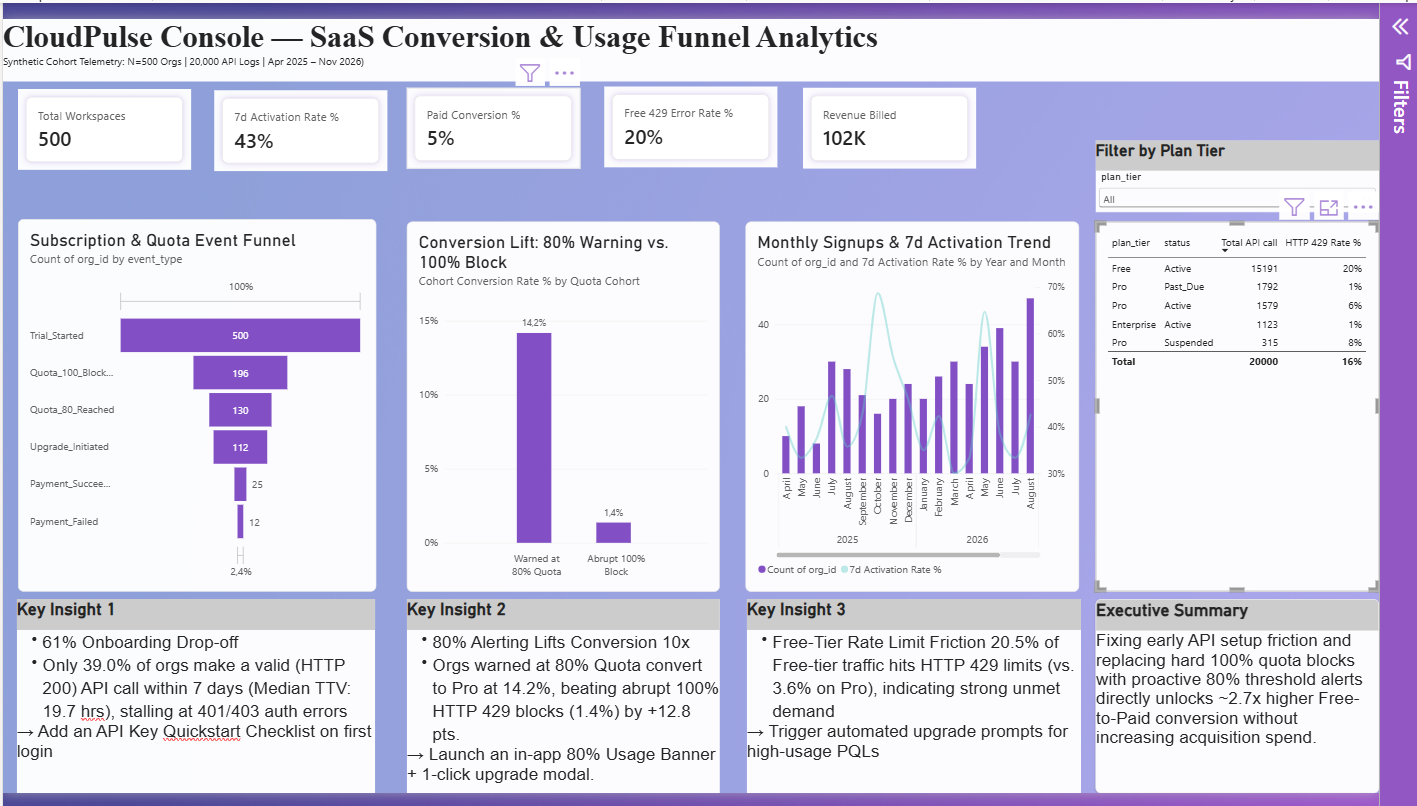

What the dashboard file says about the page in this screenshot:
{"tool":"powerbi","page":{"name":"Page 2","canvas":[1920,1080],"ordinal":0},"visuals":[{"type":"textbox","box":[0,0,1920,87.4],"z":0},{"type":"cardVisual","fields":{"Data":["CountNonNull(organizations.org_id)"]},"box":[20.3,98.2,241.7,113.1],"z":1000},{"type":"cardVisual","fields":{"Data":["organizations.7d Activation Rate %"]},"box":[294.7,99.9,241.7,113.1],"z":2000},{"type":"cardVisual","fields":{"Data":["organizations.Paid Conversion %"]},"box":[564,96.5,241.7,113.1],"z":3000},{"type":"cardVisual","fields":{"Data":["organizations.Free 429 Error Rate %"]},"box":[838.4,94.8,241.7,113.1],"z":4000},{"type":"cardVisual","fields":{"Data":["organizations.Total MRR"]},"box":[1116.2,96.5,241.7,113.1],"z":5000},{"type":"funnel","title":"Subscription & Quota Event Funnel","fields":{"Category":["subscription_events.event_type"],"Y":["Count(subscription_events.org_id)"]},"box":[20.3,279.5,499.6,520],"z":6000},{"type":"clusteredColumnChart","title":"Conversion Lift: 80% Warning vs. 100% Block","fields":{"Category":["organizations.Quota Cohort"],"Y":["organizations.Cohort Conversion Rate %"]},"box":[564,282.9,437,516.6],"z":7000},{"type":"lineClusteredColumnComboChart","title":"Monthly Signups & 7d Activation Trend","fields":{"Category":["organizations.created_at.Variation.Date Hierarchy.Year","organizations.created_at.Variation.Date Hierarchy.Month"],"Y":["Count(organizations.org_id)"],"Y2":["organizations.7d Activation Rate %"]},"box":[1036.6,282.9,465.8,516.6],"z":8000},{"type":"tableEx","fields":{"Values":["organizations.plan_tier","organizations.status","api_usage_logs.log_id","organizations.HTTP 429 Rate %"]},"box":[1524.4,282.9,396.3,516.6],"z":9000},{"type":"slicer","title":"Filter by Plan Tier","fields":{"Values":["organizations.plan_tier"]},"box":[1524.4,169.4,396.3,99.9],"z":10000},{"type":"textbox","title":"Key Insight 1","box":[20,809,500,271],"z":11000},{"type":"textbox","title":"Key Insight 2","box":[564,809,437,271],"z":12000},{"type":"textbox","title":"Key Insight 3","box":[1037,809,466,271],"z":13000},{"type":"textbox","title":"Executive Summary","box":[1524,809,396,271],"z":14000}]}

Visuals, with their boxes on the page's 1920x1080 design canvas (x1, y1, x2, y2). These are canvas units, not pixel positions in the 1417x806 screenshot, which may show the page scaled, cropped or inside an application window:
textbox: l=0, t=0, r=1920, b=87
cardVisual - CountNonNull(organizations.org_id): l=20, t=98, r=262, b=211
cardVisual - organizations.7d Activation Rate %: l=295, t=100, r=536, b=213
cardVisual - organizations.Paid Conversion %: l=564, t=96, r=806, b=210
cardVisual - organizations.Free 429 Error Rate %: l=838, t=95, r=1080, b=208
cardVisual - organizations.Total MRR: l=1116, t=96, r=1358, b=210
"Subscription & Quota Event Funnel" funnel: l=20, t=280, r=520, b=800
"Conversion Lift: 80% Warning vs. 100% Block" clusteredColumnChart: l=564, t=283, r=1001, b=800
"Monthly Signups & 7d Activation Trend" lineClusteredColumnComboChart: l=1037, t=283, r=1502, b=800
tableEx - organizations.plan_tier x organizations.status: l=1524, t=283, r=1921, b=800
"Filter by Plan Tier" slicer: l=1524, t=169, r=1921, b=269
"Key Insight 1" textbox: l=20, t=809, r=520, b=1080
"Key Insight 2" textbox: l=564, t=809, r=1001, b=1080
"Key Insight 3" textbox: l=1037, t=809, r=1503, b=1080
"Executive Summary" textbox: l=1524, t=809, r=1920, b=1080
